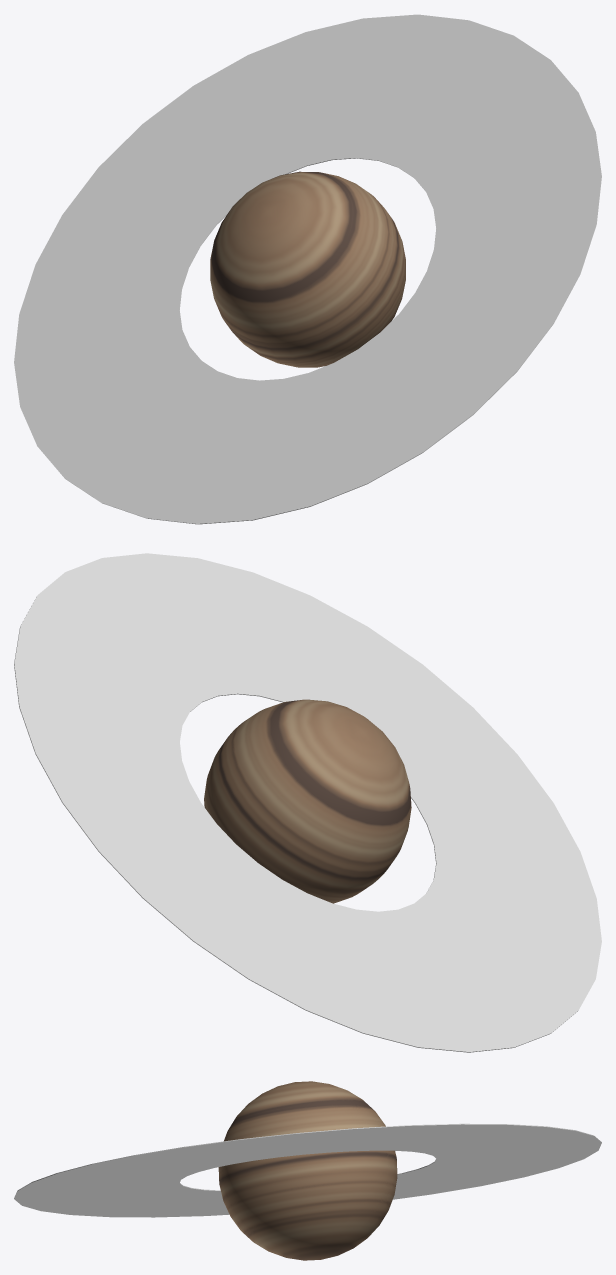
File: Venus (1).fbx
3 views of the same model, one above another, from view 1: azimuth 30°, elevation 25°; view 2: azimuth 150°, elevation 25°; view 3: azimuth 270°, elevation 25° (orthographic). The views are drawn at different scales.
Parts seen in each view (by area): view 1: Ring, Venus; view 2: Ring, Venus; view 3: Ring, Venus.
Boxes of the visible parts, <box> form: Ring: <box>14,14,601,524</box>; Venus: <box>210,171,405,367</box>; Ring: <box>14,553,601,1052</box>; Venus: <box>204,699,411,903</box>; Ring: <box>14,1123,601,1217</box>; Venus: <box>218,1081,397,1260</box>.
Bounding box in the file's own units: 695 × 446 × 818.
2 materials, 1 textured.
